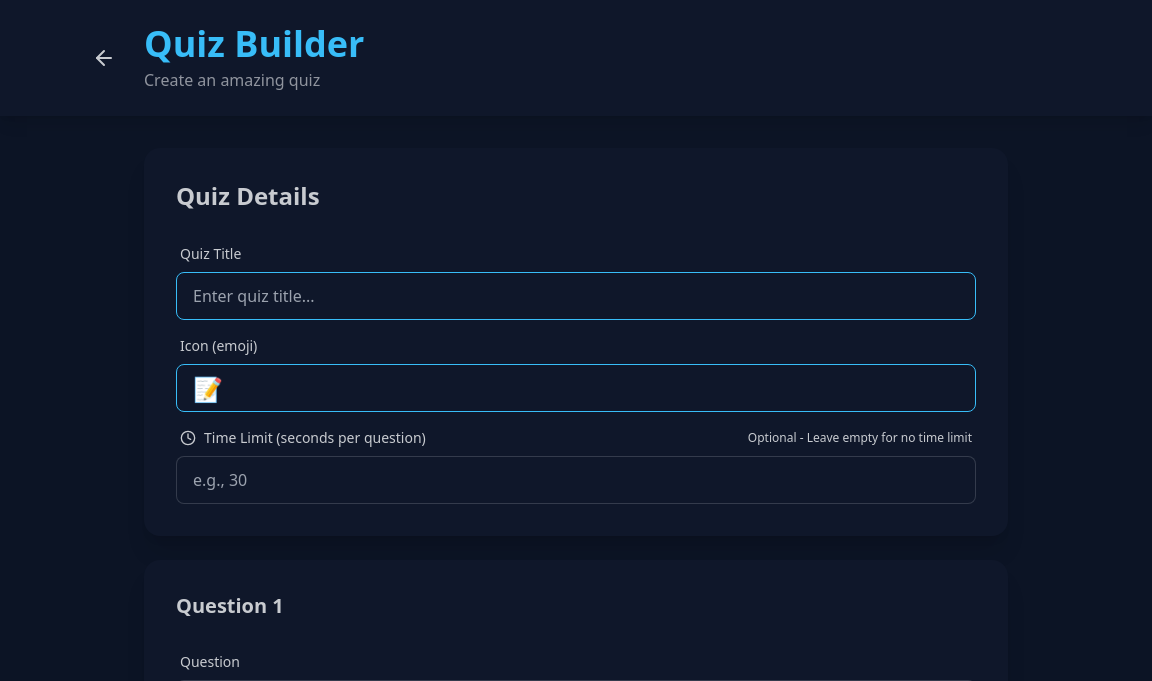
QuizBuilderPage › Form Input › allows user to set time limit
In the number field with placeholder "e.g., 30": (576,480) [176,456,976,504], type "60"
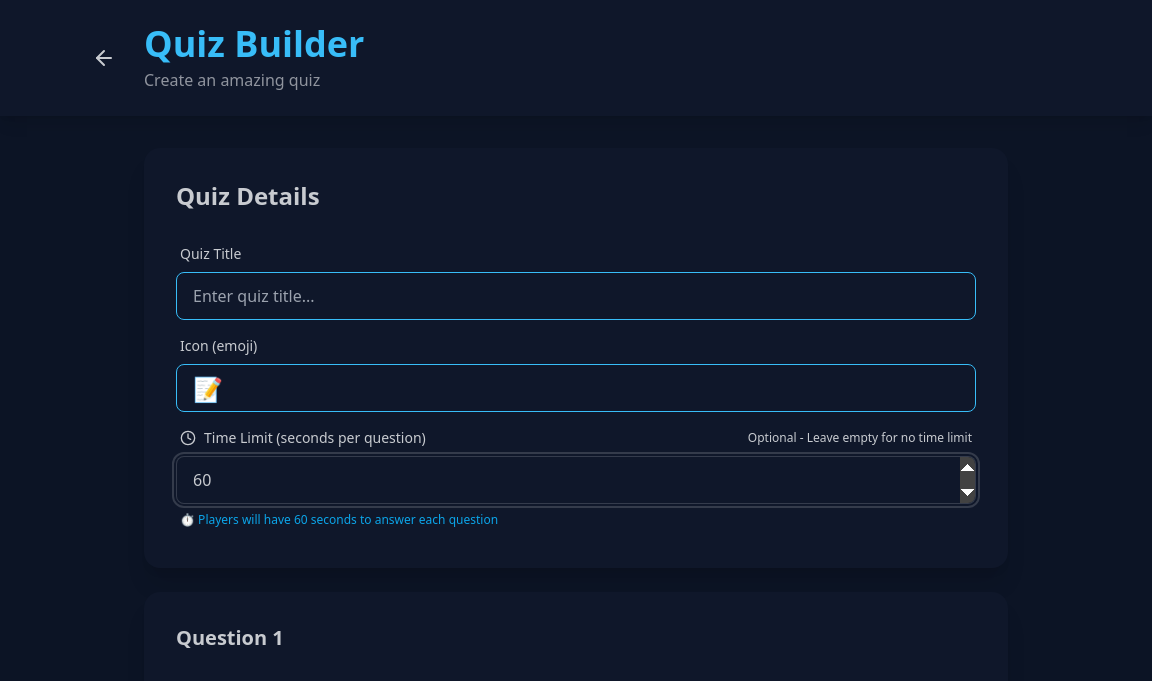
expect the text "⏱️ Players will have 60 seconds to answer each question" is shown: met, box [180,512,498,528]
